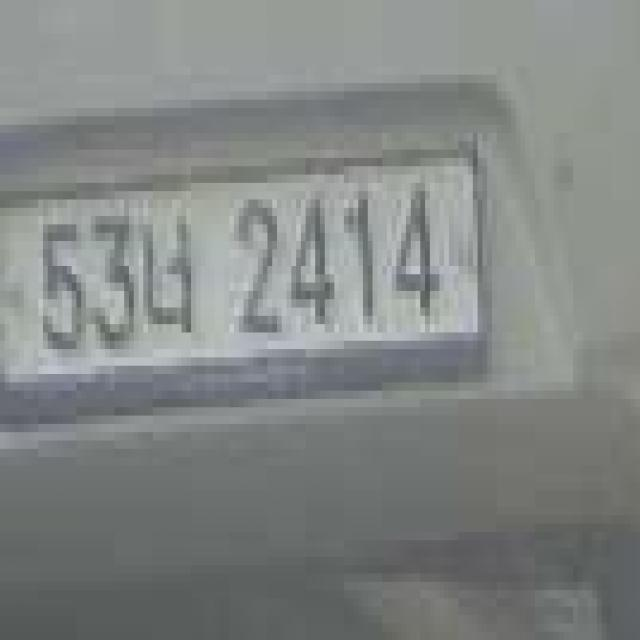1: (339, 158, 387, 332)
2: (224, 183, 282, 341)
3: (86, 200, 138, 349)
4: (392, 183, 449, 316), (287, 200, 339, 332)
5: (38, 216, 91, 349)
license_plate: (5, 133, 487, 424)
neo: (134, 216, 196, 333)
